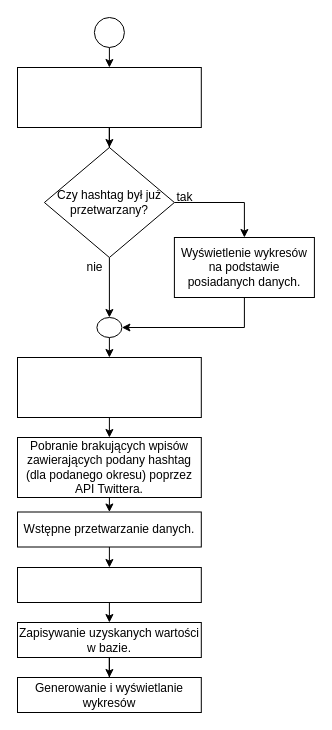
Some shapes in this 332 by 730 pixel diagram are drawn without their labels. The centre of each missing label's shape, as x and y in pixels:
"Analiza sentymentu." belongs at pixel 108 584.
"Pobranie od użytkownika informacji o przedziale czasowym." belongs at pixel 108 387.
"Użytkownik wprowadza interesującego go hashtaga do systemu." belongs at pixel 108 97.
